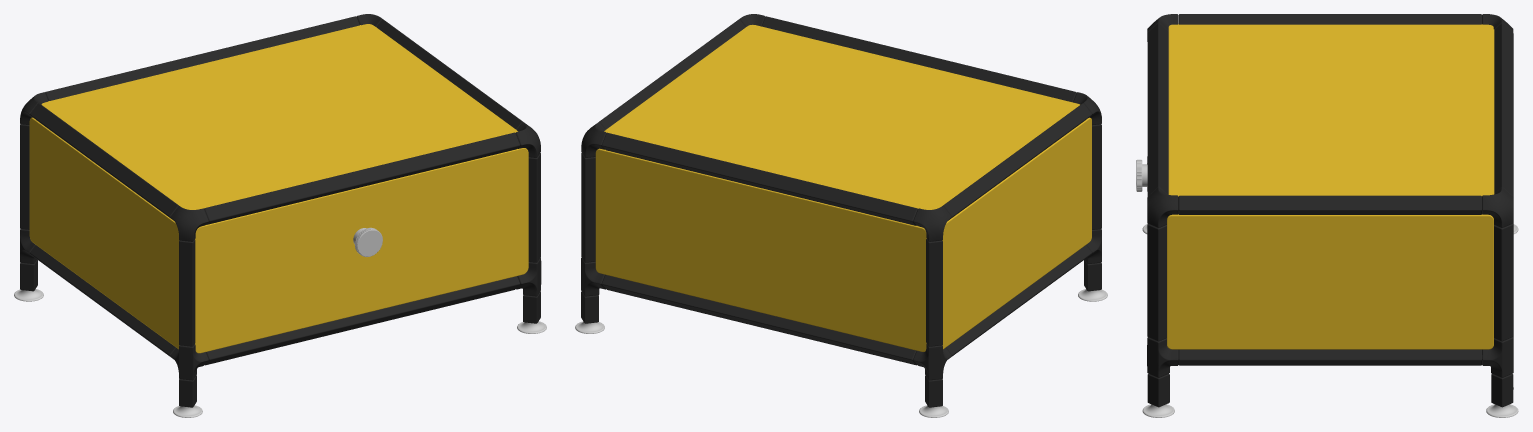
The picture shows the model from 3 angles, left to right: view 1: azimuth 30°, elevation 25°; view 2: azimuth 150°, elevation 25°; view 3: azimuth 270°, elevation 25°; orthographic projection. The views are drawn at different scales.
Visible parts, largest first — view 1: 479x374x154; view 2: 479x374x154; view 3: 479x374x154.
Boxes of the visible parts, <box> form: 479x374x154: <box>14,14,546,417</box>; 479x374x154: <box>575,14,1107,417</box>; 479x374x154: <box>1136,14,1518,417</box>.
Bounding box in the file's own units: 0.5689 × 0.2933 × 0.4707.
